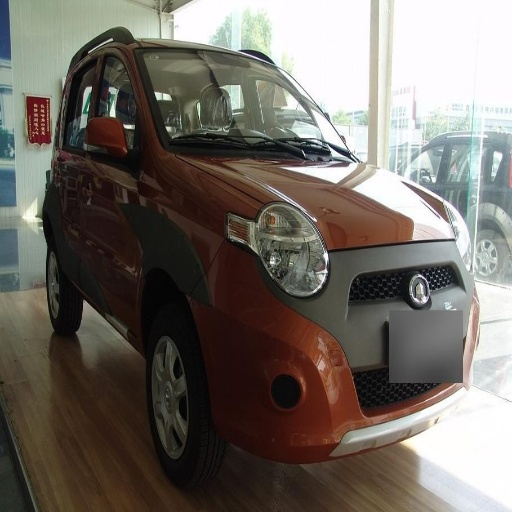front_bumper: (196, 244, 473, 462)
front_glass: (138, 52, 353, 158)
front_right_door: (83, 36, 143, 323)
front_right_light: (227, 209, 327, 300)
